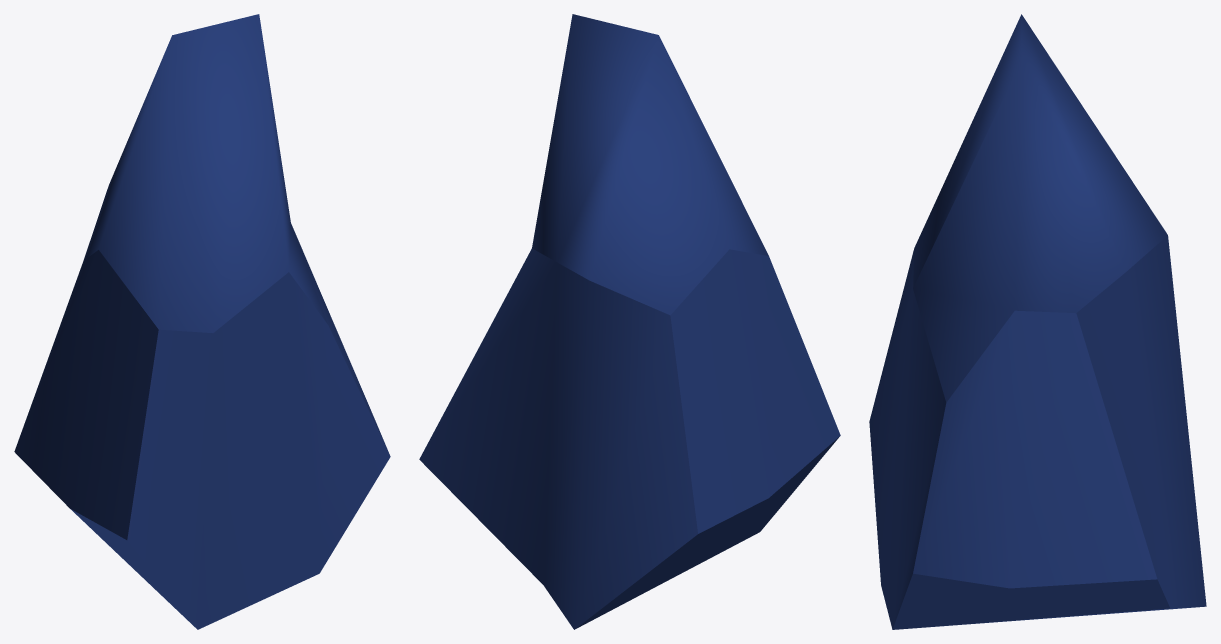
Rendered from Escombro_Piedra_Pieza3_FBX.fbx.
3 renders of one model, left to right at view 1: azimuth 30°, elevation 25°; view 2: azimuth 150°, elevation 25°; view 3: azimuth 270°, elevation 25°, orthographic. The views are drawn at different scales.
Parts seen in each view (by area): view 1: Escombro_Piedra_3; view 2: Escombro_Piedra_3; view 3: Escombro_Piedra_3.
Part boxes in pixels (x1=…): Escombro_Piedra_3: x1=14, y1=14, x2=390, y2=629; Escombro_Piedra_3: x1=419, y1=14, x2=840, y2=629; Escombro_Piedra_3: x1=869, y1=14, x2=1206, y2=629.
Bounding box in the file's own units: 0.5954 × 0.9855 × 0.5088.
